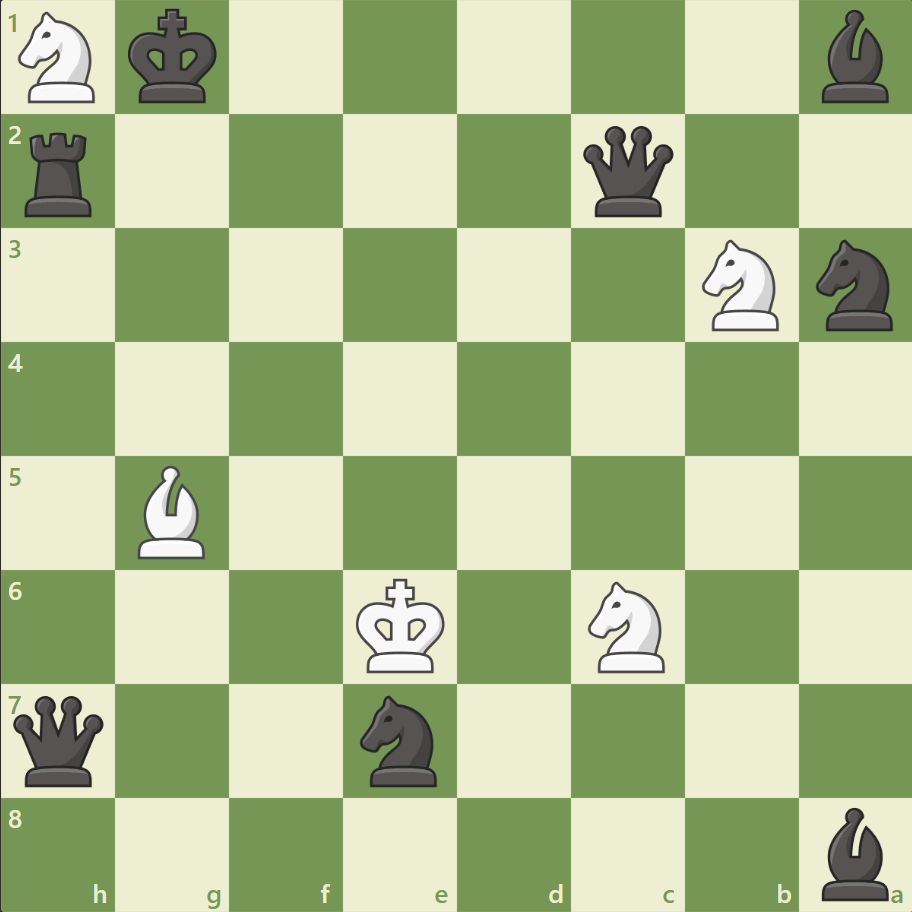B: (131, 460, 215, 563)
K: (351, 571, 451, 679)
N: (692, 234, 789, 337), (11, 7, 108, 110), (579, 575, 676, 677)
b: (812, 801, 896, 904), (812, 6, 896, 109)
k: (124, 4, 224, 112)
n: (351, 688, 449, 791), (806, 234, 903, 337)
q: (578, 122, 677, 222), (10, 690, 109, 789)
r: (19, 125, 102, 222)
